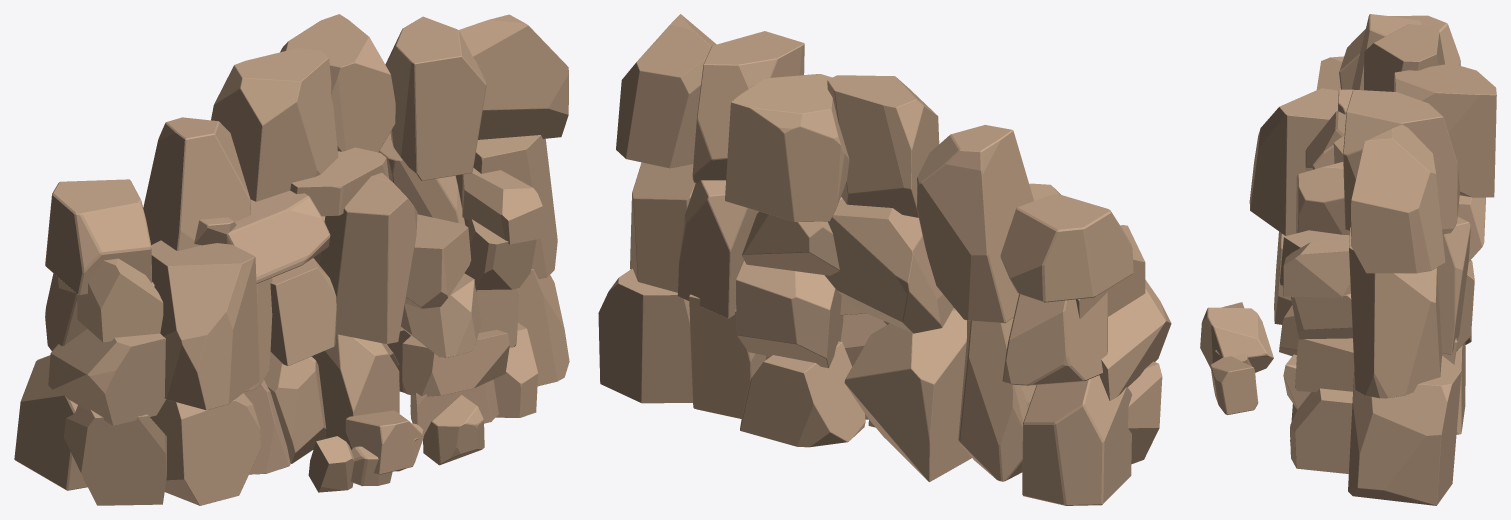
File: block_cliff.glb
3 renders of one model, left to right at view 1: azimuth 30°, elevation 25°; view 2: azimuth 150°, elevation 25°; view 3: azimuth 270°, elevation 25°, orthographic. The views are drawn at different scales.
Parts seen in each view (by area): view 1: BlockCliff-col; view 2: BlockCliff-col; view 3: BlockCliff-col.
Part boxes in pixels (bbox=[...]): BlockCliff-col: bbox=[14, 14, 569, 505]; BlockCliff-col: bbox=[598, 14, 1171, 505]; BlockCliff-col: bbox=[1200, 14, 1496, 505].
Size of the model in its own units: 10.71 by 7.22 by 5.57.
